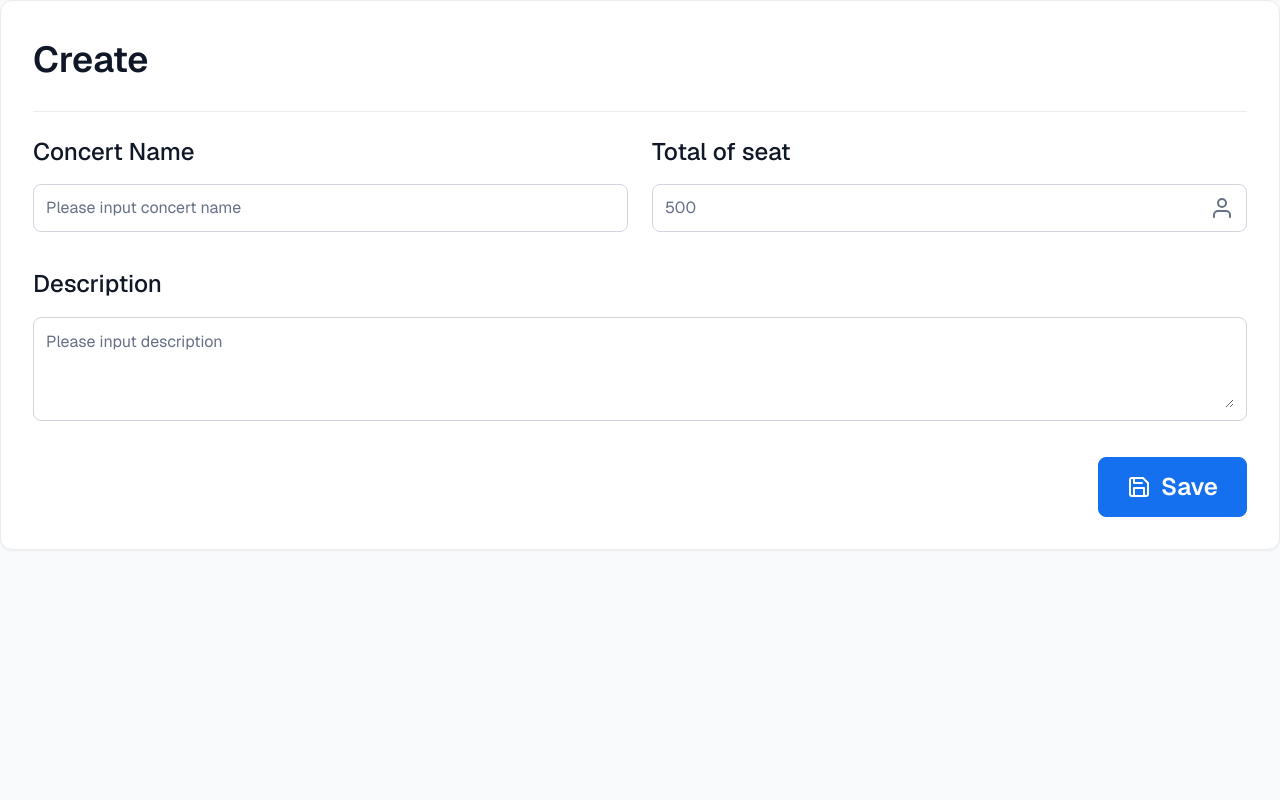
Test case: ConcertForm › rejects a total seats of zero
Type "Rock Night" into the field labelled "Concert Name" at (330,208), box [46, 196, 615, 220]
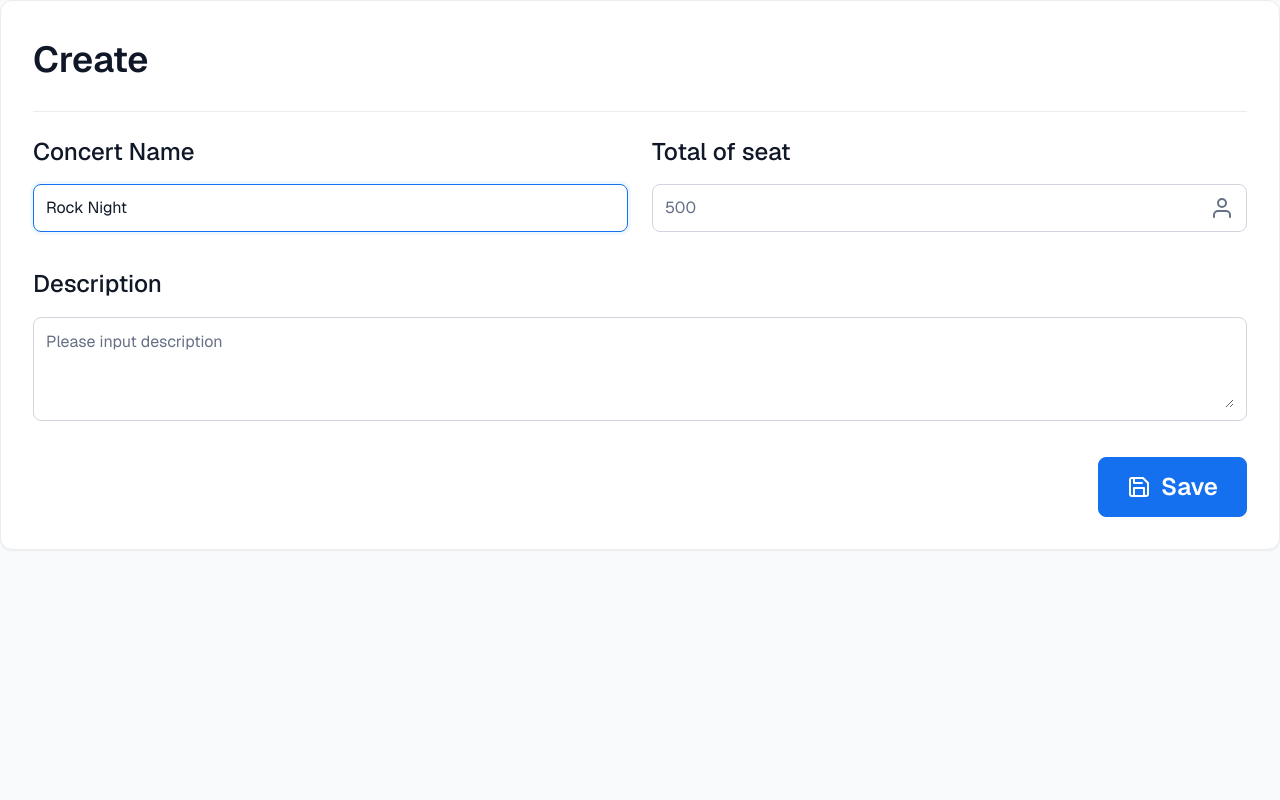
Type "0" into the number field labelled "Total of seat" at (932,208), box [665, 196, 1198, 220]
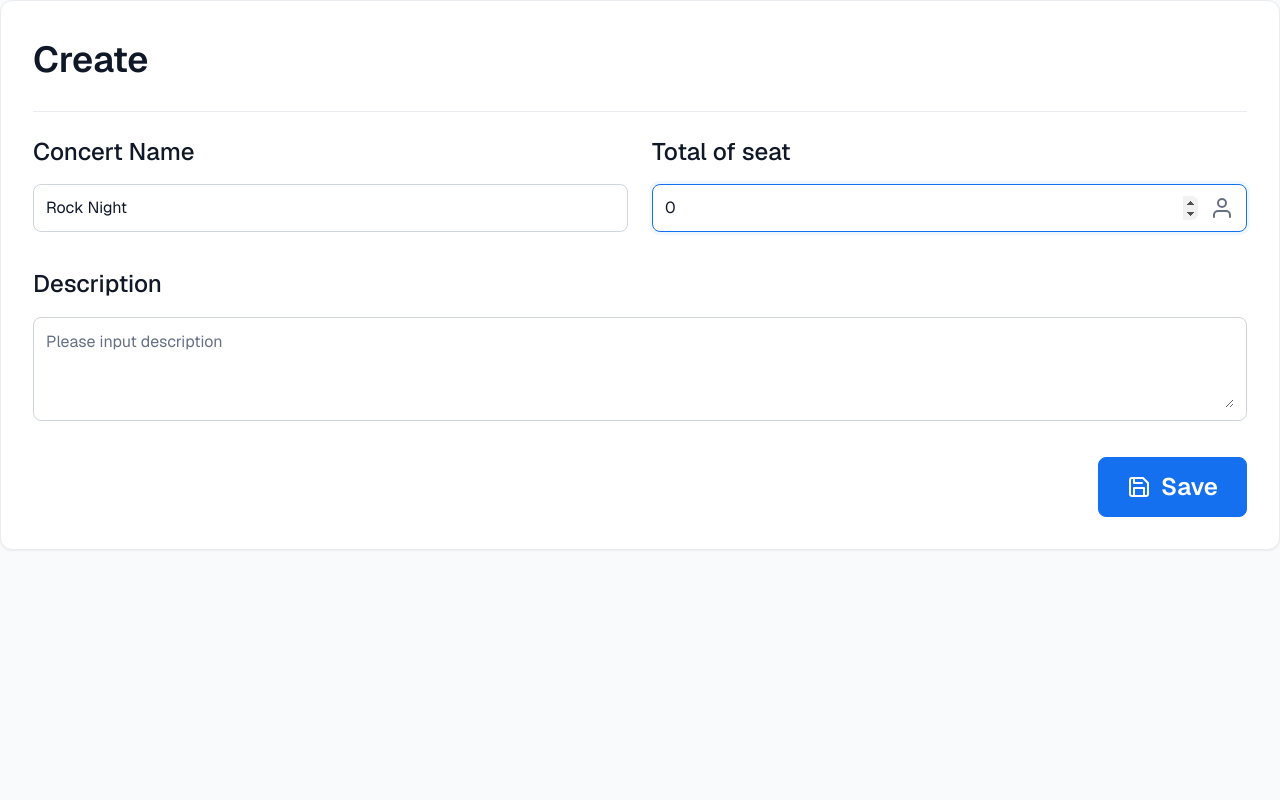
Type "Loud music" into the text box labelled "Description" at (640,369), box [46, 330, 1234, 408]
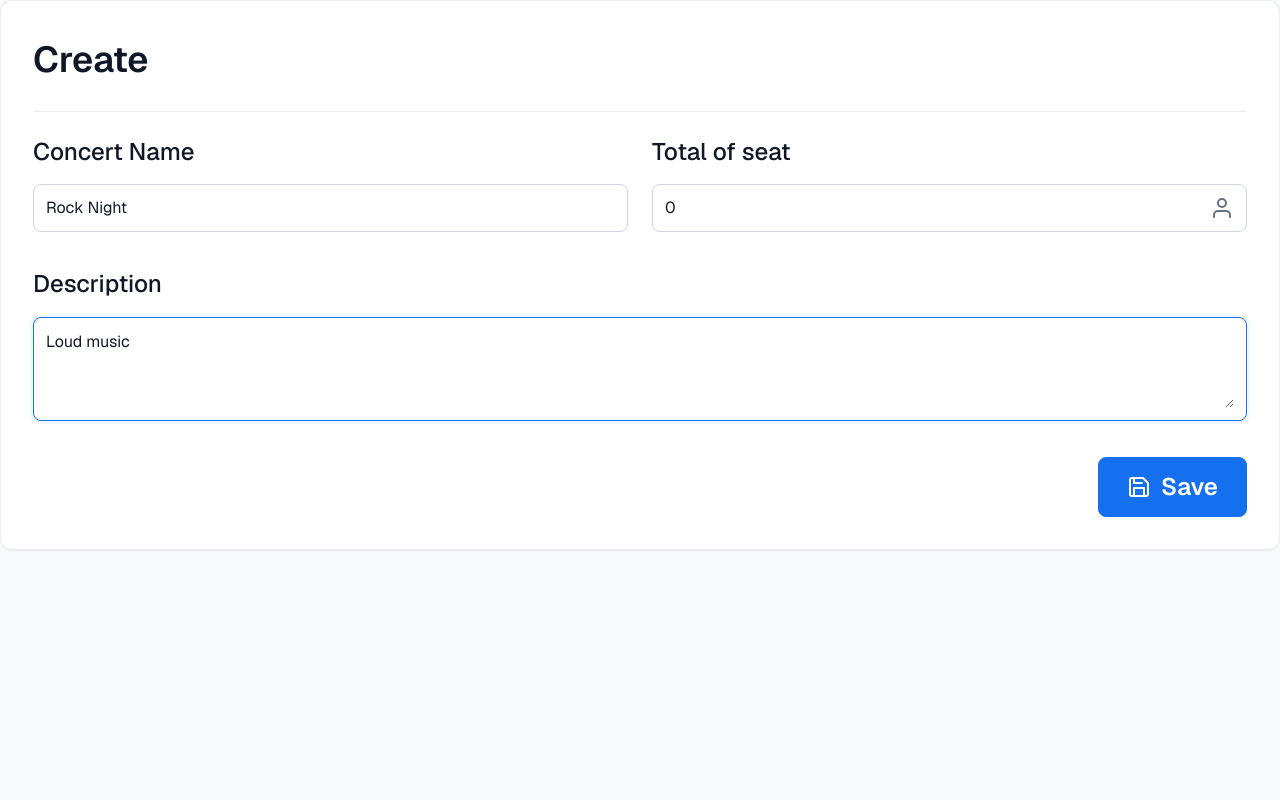
Click the button "Save" at (1173,487), box [1098, 457, 1247, 517]
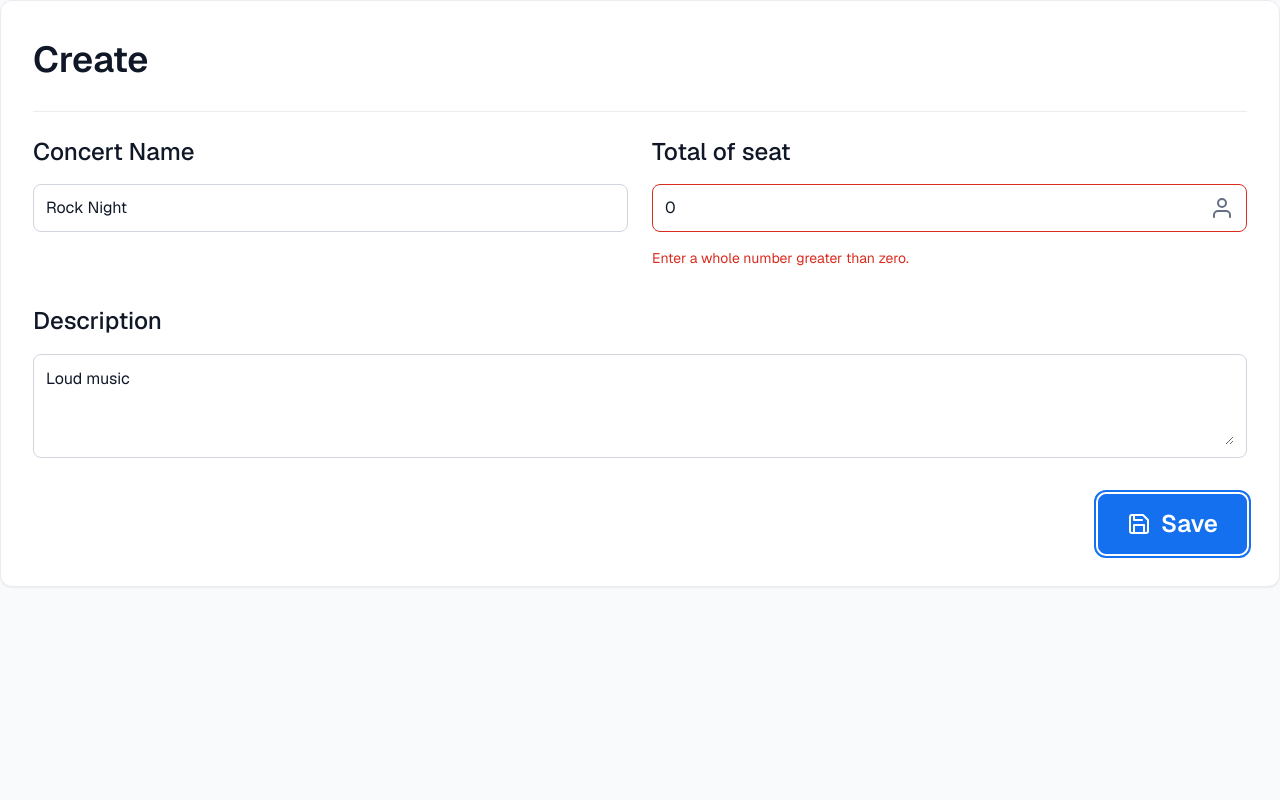
Expected: the text "Enter a whole number greater than zero." is shown, [652, 249, 909, 267]
